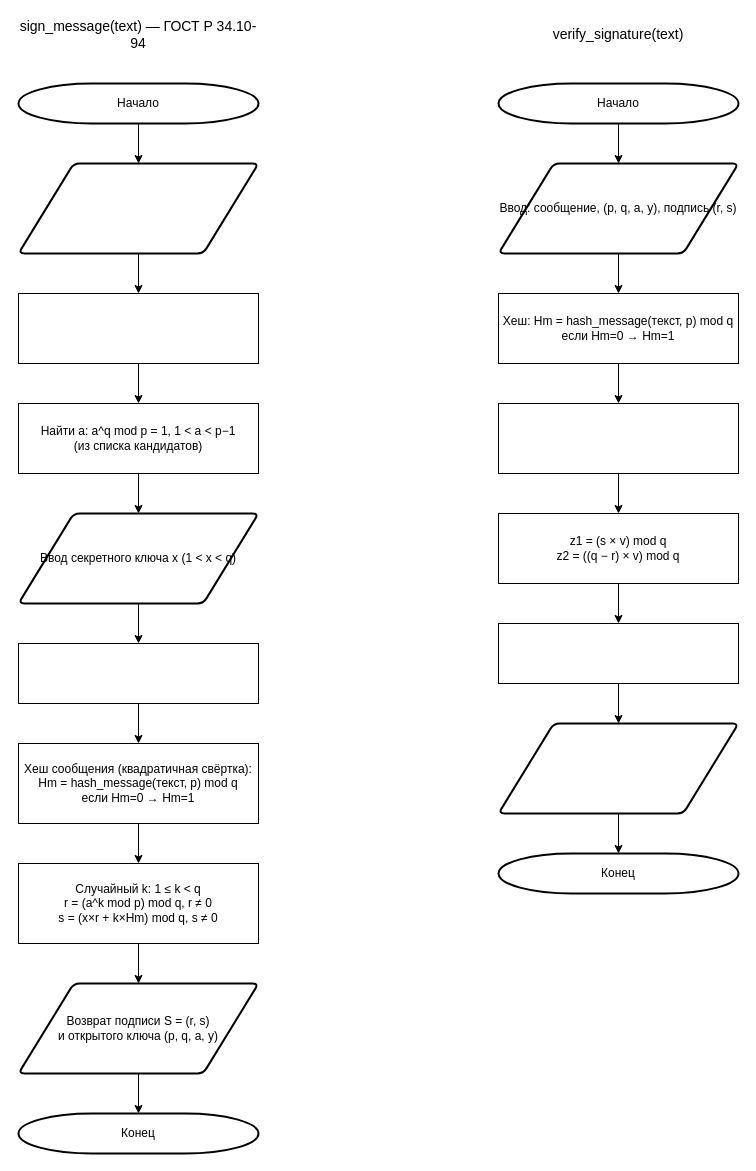
Image size: 756x1171. Some labels were removed from this diagram. The shapes that lost their labels are listed below. From the top down, each one's centre as x and y in pixels, then its label:
At point (138, 208): "Ввод: текст, простое число p (>32)".
At point (138, 328): "Найти простые множители (p−1) → выбрать q (q — простой сомножитель p−1)".
At point (618, 438): "v = Hm^(q−2) mod q (= Hm⁻¹ mod q по малой теореме Ферма)".
At point (138, 673): "y = a^x mod p (открытый ключ)".
At point (618, 653): "u = (a^z1 × y^z2 mod p) mod q".
At point (618, 768): "Сравнение: u = r → подпись ВЕРНА u ≠ r → подпись НЕВЕРНА".
